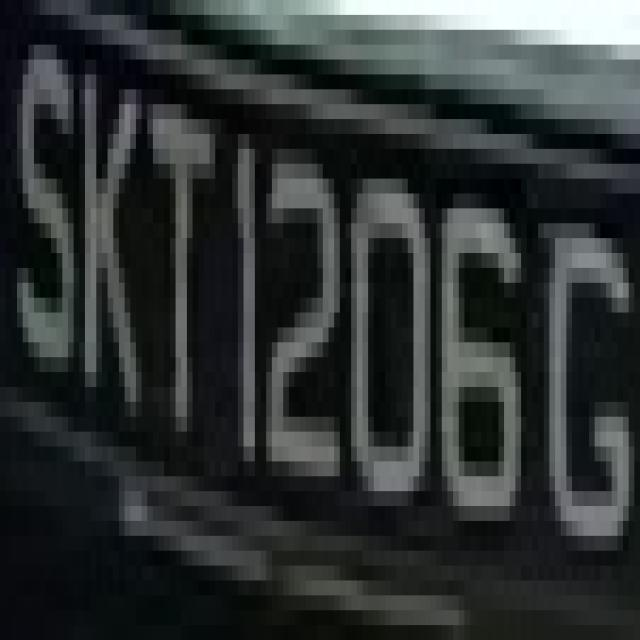0: (340, 149, 430, 551)
1: (215, 74, 272, 521)
2: (266, 119, 351, 521)
6: (436, 164, 527, 595)
G: (532, 149, 640, 595)
K: (68, 45, 147, 461)
S: (6, 15, 68, 402)
T: (136, 74, 209, 417)
